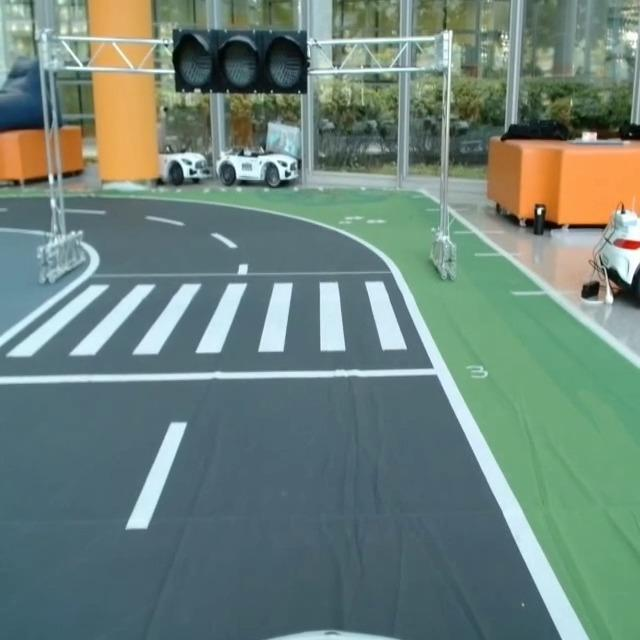traffic-light: (166, 26, 316, 99)
